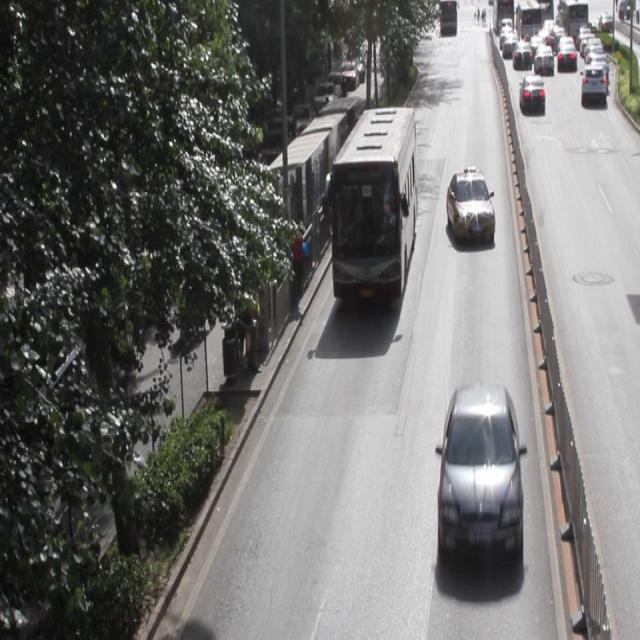car: (437, 382, 520, 565), (446, 170, 493, 244)
van: (330, 105, 413, 304)
